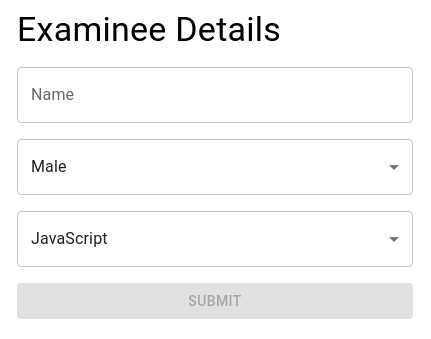
Home component › should enable the "Submit" button when a valid input is entered
This screenshot has width=431, height=339.
Expected: the button with test id "submitButton" is disabled, [17,283,413,320]
Type "John" into the field with test id "addName" at [215, 95], box [17,67,413,123]
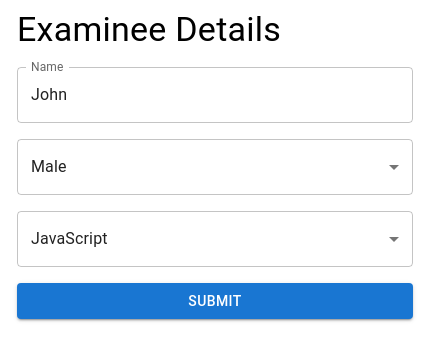
Result: the button with test id "submitButton" is enabled at [17,283,413,320]
